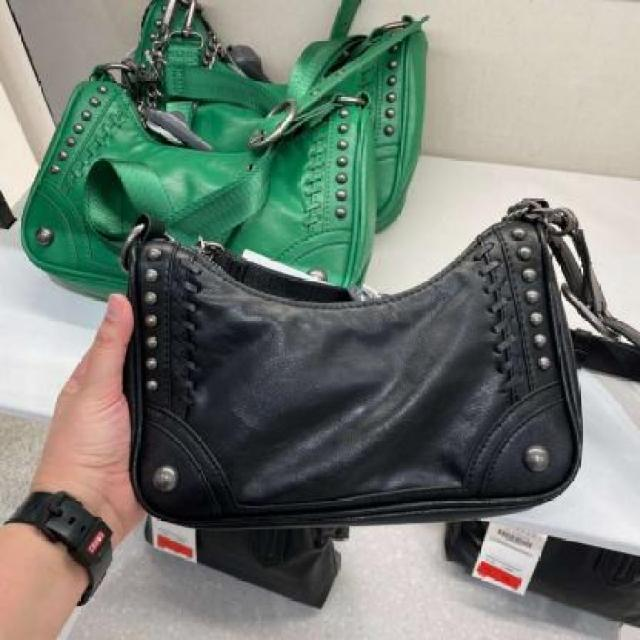Bag: (112, 170, 630, 556), (0, 0, 394, 306)
